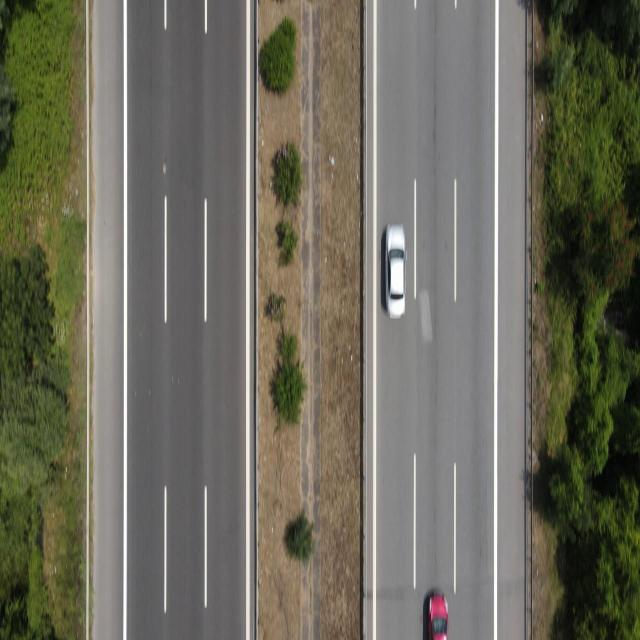Car: (382, 222, 412, 343), (419, 587, 454, 640)
